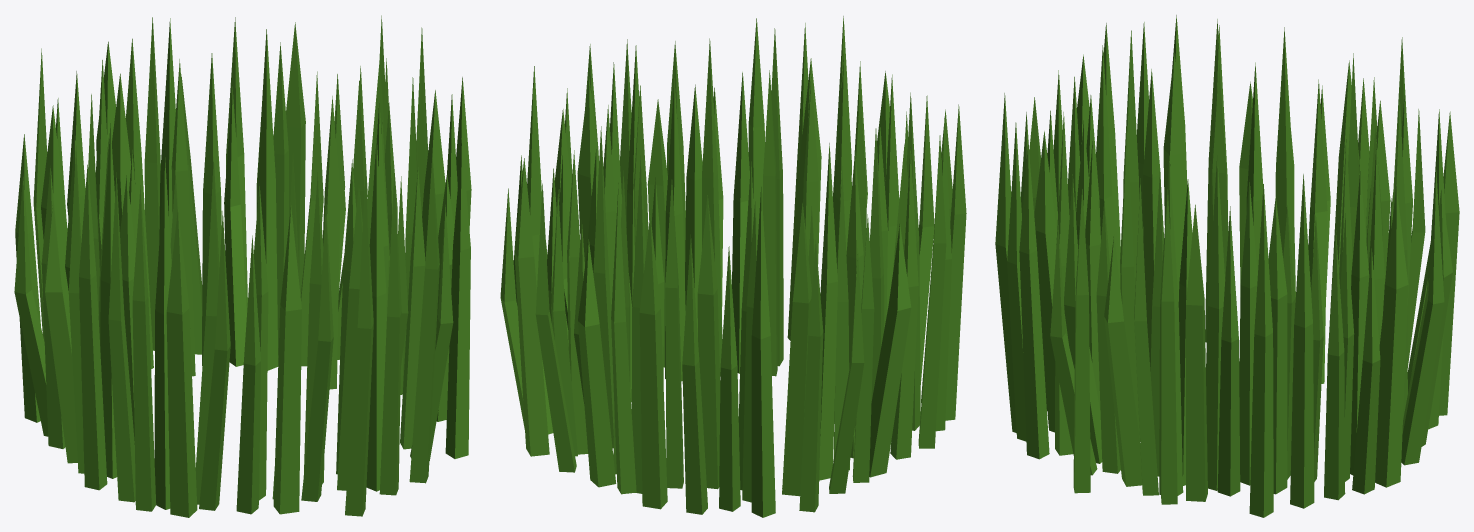
The model's file is BossElementGrass.fbx.
The picture shows the model from 3 angles, left to right: view 1: azimuth 30°, elevation 25°; view 2: azimuth 150°, elevation 25°; view 3: azimuth 270°, elevation 25°; orthographic projection. The views are drawn at different scales.
Parts seen in each view (by area): view 1: polySurface2; view 2: polySurface2; view 3: polySurface2.
Part boxes in pixels (x1,y1,x2,y2): polySurface2: (14,15,471,517); polySurface2: (500,16,966,517); polySurface2: (995,15,1459,517).
Bounding box in the file's own units: 3.14 × 2.7 × 3.3.
